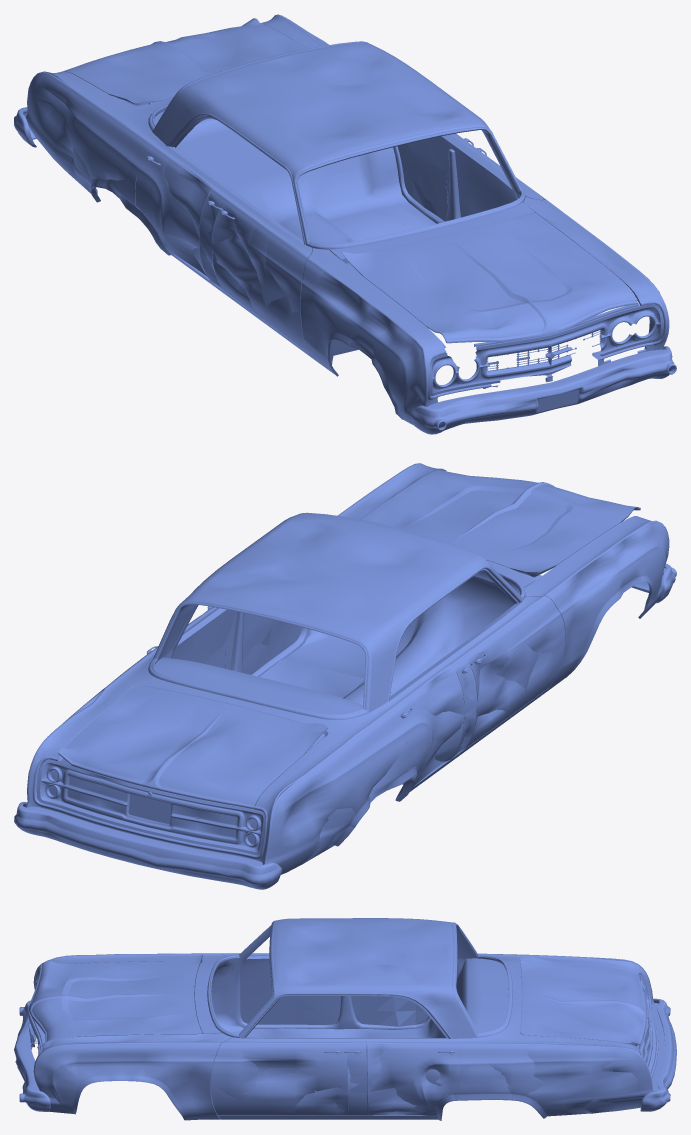
The model's file is bluebuck_beater.dae.
The picture shows the model from 3 angles, top to bottom: view 1: azimuth 30°, elevation 25°; view 2: azimuth 150°, elevation 25°; view 3: azimuth 270°, elevation 25°; orthographic projection. The views are drawn at different scales.
Parts seen in each view (by area): view 1: bluebuck_beater_roof, bluebuck_beater_hood, bluebuck_beater_body_4door, bluebuck_beater_body_2door, bluebuck_beater_fender_FR, bluebuck_beater_trunk, bluebuck_beater_bumper_F, bluebuck_beater_fascia_F, bluebuck_beater_door_FR_2door, bluebuck_beater_door_RR_4door, bluebuck_beater_door_FR_4door, bluebuck_beater_fender_FL (+3 smaller); view 2: bluebuck_beater_body_4door, bluebuck_beater_roof, bluebuck_beater_trunk, bluebuck_beater_body_2door, bluebuck_beater_hood, bluebuck_beater_fender_FR, bluebuck_beater_fascia_R, bluebuck_beater_bumper_R, bluebuck_beater_door_FR_2door, bluebuck_beater_door_RR_4door, bluebuck_beater_door_FR_4door, bluebuck_beater_door_RL_4door (+3 smaller); view 3: bluebuck_beater_body_4door, bluebuck_beater_roof, bluebuck_beater_body_2door, bluebuck_beater_hood, bluebuck_beater_fender_FL, bluebuck_beater_trunk, bluebuck_beater_door_FL_4door, bluebuck_beater_door_RL_4door, bluebuck_beater_door_FL_2door, bluebuck_beater_door_FR_4door, bluebuck_beater_door_FR_2door, bluebuck_beater_bumper_R (+4 smaller).
Part boxes in pixels (bbox=[...]): bluebuck_beater_roof: bbox=[153, 41, 522, 244]; bluebuck_beater_hood: bbox=[342, 212, 638, 343]; bluebuck_beater_body_4door: bbox=[25, 14, 534, 364]; bluebuck_beater_body_2door: bbox=[26, 31, 521, 352]; bluebuck_beater_fender_FR: bbox=[300, 248, 446, 425]; bluebuck_beater_trunk: bbox=[62, 18, 307, 105]; bluebuck_beater_bumper_F: bbox=[410, 346, 676, 434]; bluebuck_beater_fascia_F: bbox=[430, 304, 663, 404]; bluebuck_beater_door_FR_2door: bbox=[199, 186, 311, 338]; bluebuck_beater_door_RR_4door: bbox=[135, 146, 238, 289]; bluebuck_beater_door_FR_4door: bbox=[212, 196, 312, 352]; bluebuck_beater_fender_FL: bbox=[523, 196, 669, 350]; bluebuck_beater_body_4door: bbox=[26, 560, 547, 864]; bluebuck_beater_roof: bbox=[153, 512, 522, 712]; bluebuck_beater_trunk: bbox=[58, 685, 327, 808]; bluebuck_beater_body_2door: bbox=[31, 581, 548, 874]; bluebuck_beater_hood: bbox=[360, 470, 640, 577]; bluebuck_beater_fender_FR: bbox=[524, 516, 669, 694]; bluebuck_beater_fascia_R: bbox=[37, 760, 265, 855]; bluebuck_beater_bumper_R: bbox=[14, 802, 281, 889]; bluebuck_beater_door_FR_2door: bbox=[441, 596, 565, 757]; bluebuck_beater_door_RR_4door: bbox=[389, 651, 476, 785]; bluebuck_beater_door_FR_4door: bbox=[454, 595, 565, 748]; bluebuck_beater_door_RL_4door: bbox=[146, 607, 236, 663]; bluebuck_beater_body_4door: bbox=[194, 953, 658, 1120]; bluebuck_beater_roof: bbox=[239, 918, 478, 1038]; bluebuck_beater_body_2door: bbox=[211, 954, 652, 1119]; bluebuck_beater_hood: bbox=[29, 954, 202, 1042]; bluebuck_beater_fender_FL: bbox=[33, 1033, 232, 1120]; bluebuck_beater_trunk: bbox=[520, 957, 646, 1045]; bluebuck_beater_door_FL_4door: bbox=[211, 1037, 347, 1115]; bluebuck_beater_door_RL_4door: bbox=[345, 1038, 459, 1115]; bluebuck_beater_door_FL_2door: bbox=[211, 1038, 367, 1115]; bluebuck_beater_door_FR_4door: bbox=[221, 953, 294, 1024]; bluebuck_beater_door_FR_2door: bbox=[224, 953, 360, 1024]; bluebuck_beater_bumper_R: bbox=[640, 998, 676, 1111].
Bounding box in the file's own units: 2.02 × 5.43 × 1.19.
